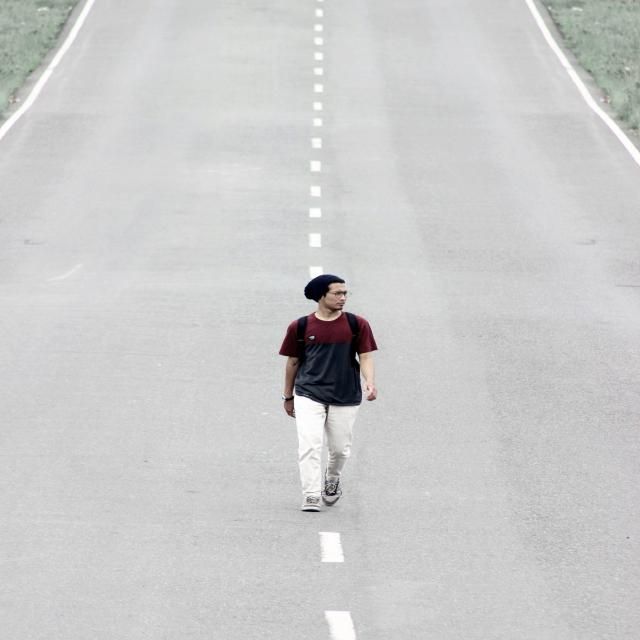adult: (277, 273, 383, 523)
